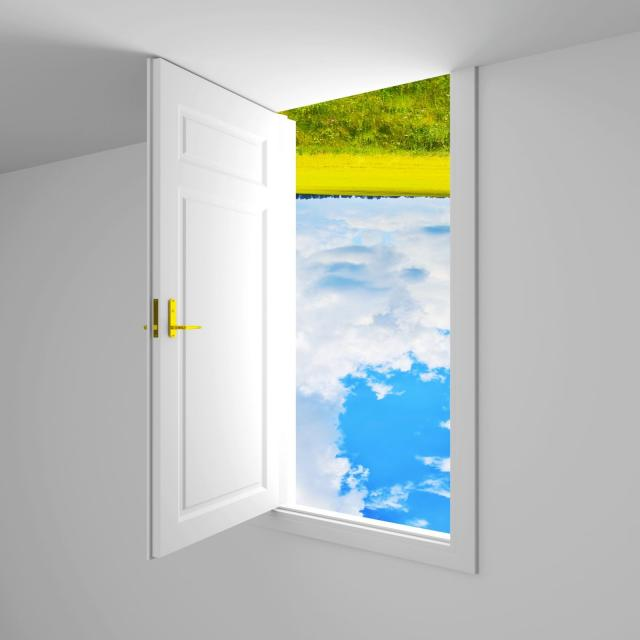open: (152, 67, 474, 545)
